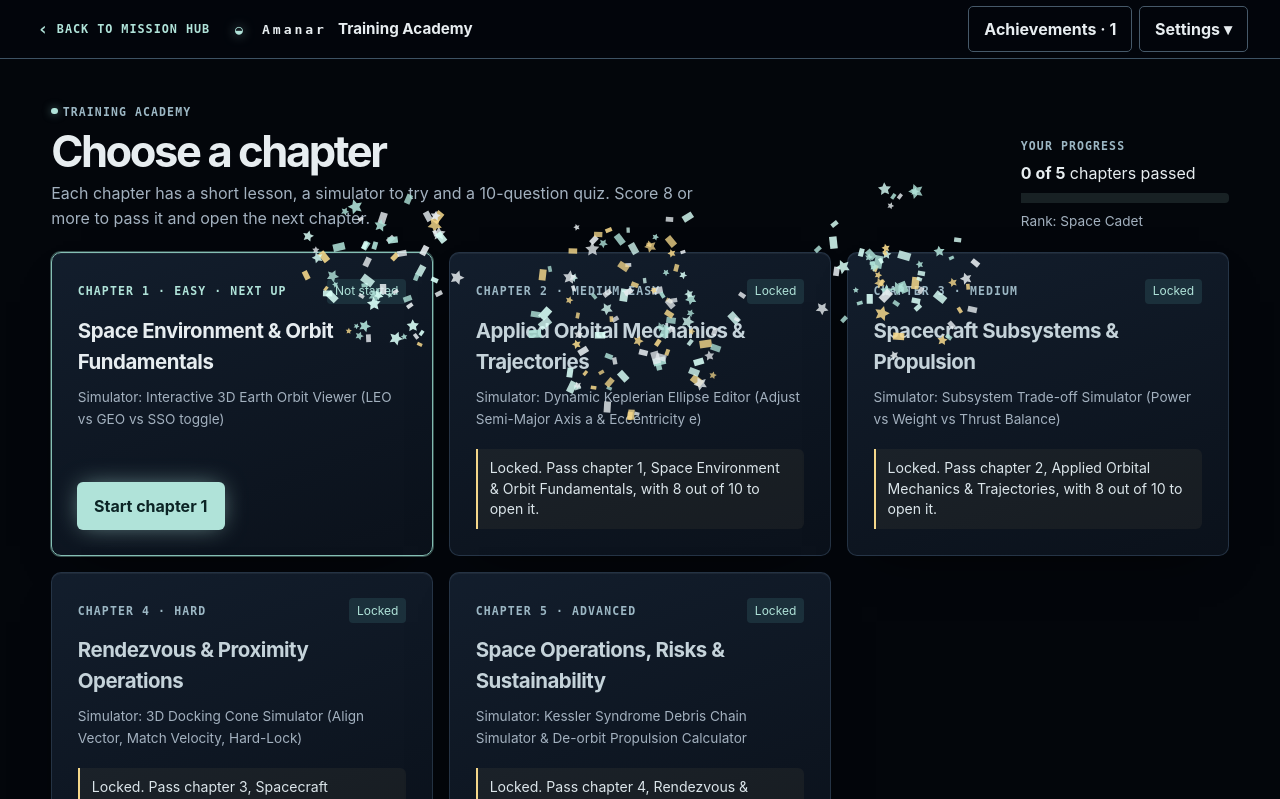
Academy flow › keeps achievements and development controls out of the learning flow
Later steps or results of the test are not shown.
Click the button "Achievements · 1".
click(1050, 29)  # box [968,6,1132,52]
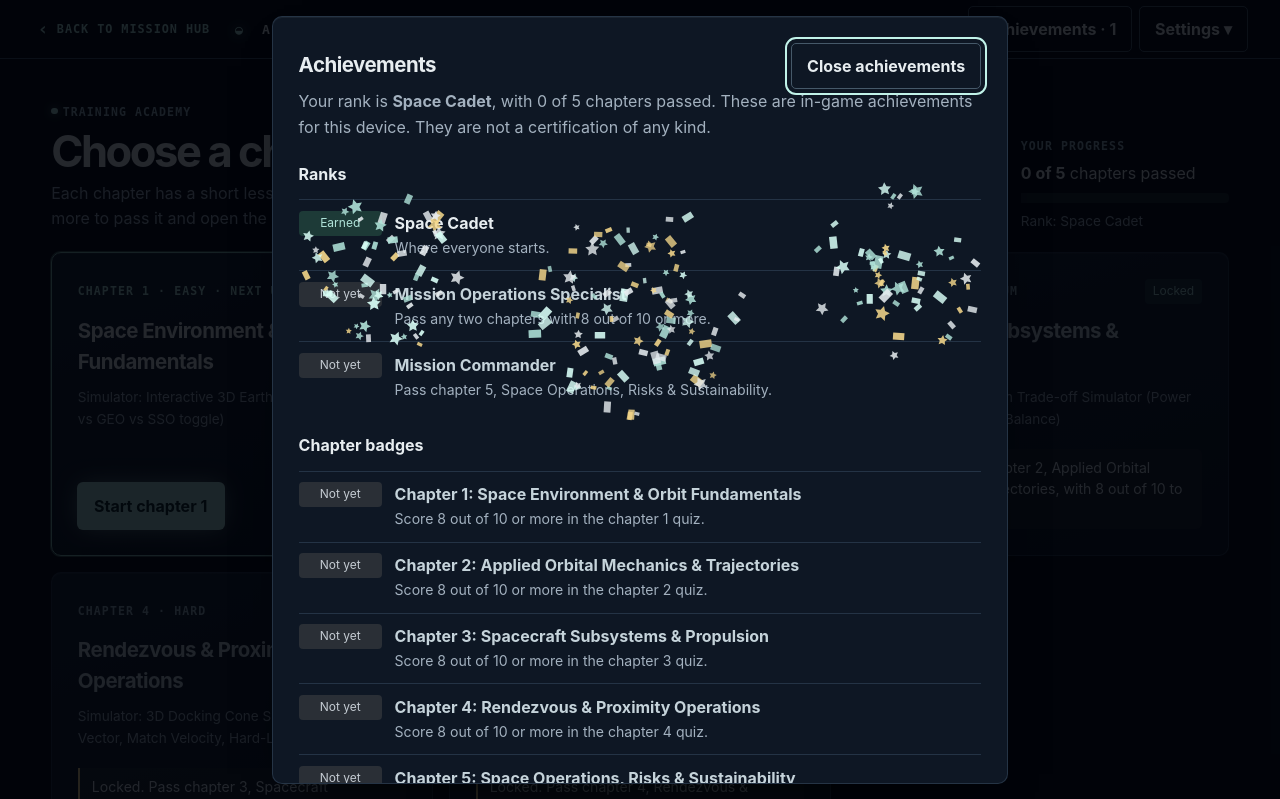
Expected: the dialog "Achievements" shows "Space Cadet", [392,91,492,111]
Expected: the dialog "Achievements" shows "not a certification", [299,91,972,137]
Press Escape
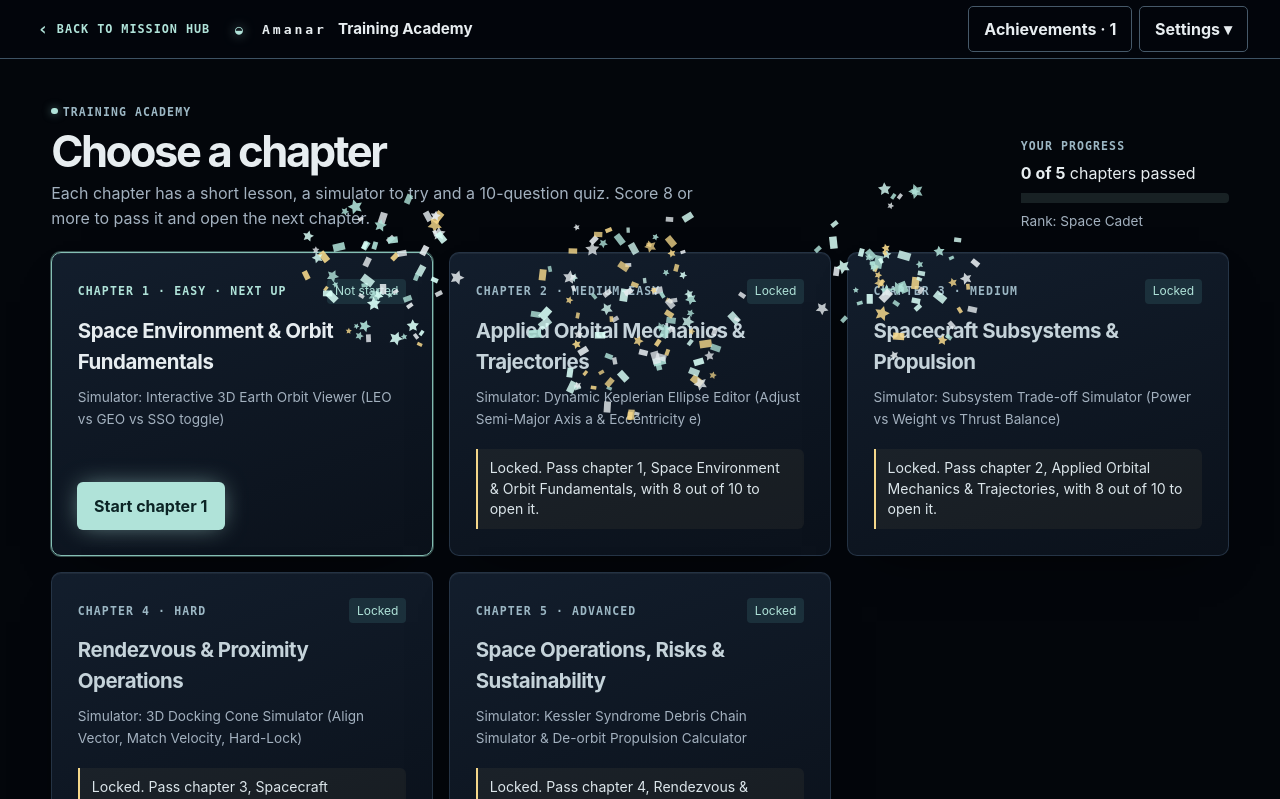
Expected: the dialog is gone
